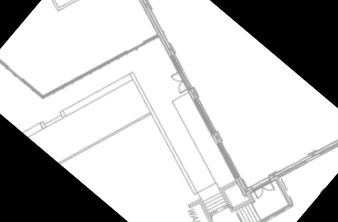door: (206, 139, 252, 183), (183, 96, 227, 139)
double door: (251, 174, 280, 205), (165, 69, 193, 96), (113, 0, 143, 3)
wall: (265, 170, 305, 208), (244, 192, 294, 222), (187, 197, 230, 222), (164, 50, 189, 74), (185, 195, 204, 215), (220, 176, 239, 195)
